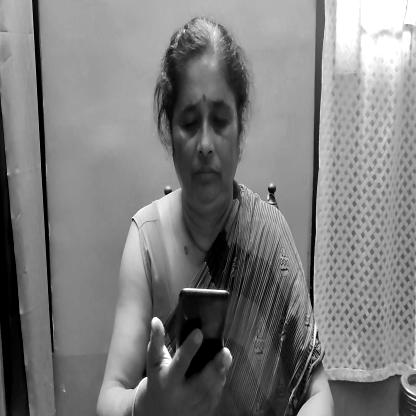Distracted: (158, 25, 250, 221)
